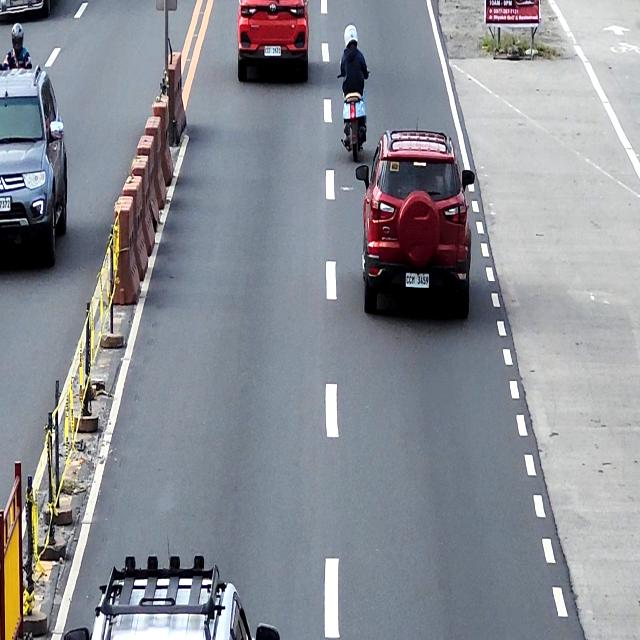Car: (354, 129, 475, 321), (66, 555, 280, 640), (0, 67, 67, 269), (237, 0, 309, 83)
License-Plate: (405, 272, 430, 288), (264, 45, 282, 57), (0, 198, 11, 212)
Motorcycle: (338, 68, 370, 162)
